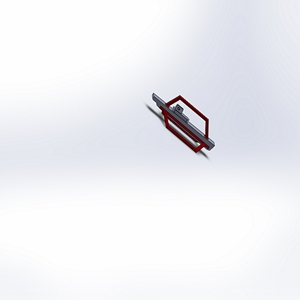submarine: (143, 81, 217, 177)
